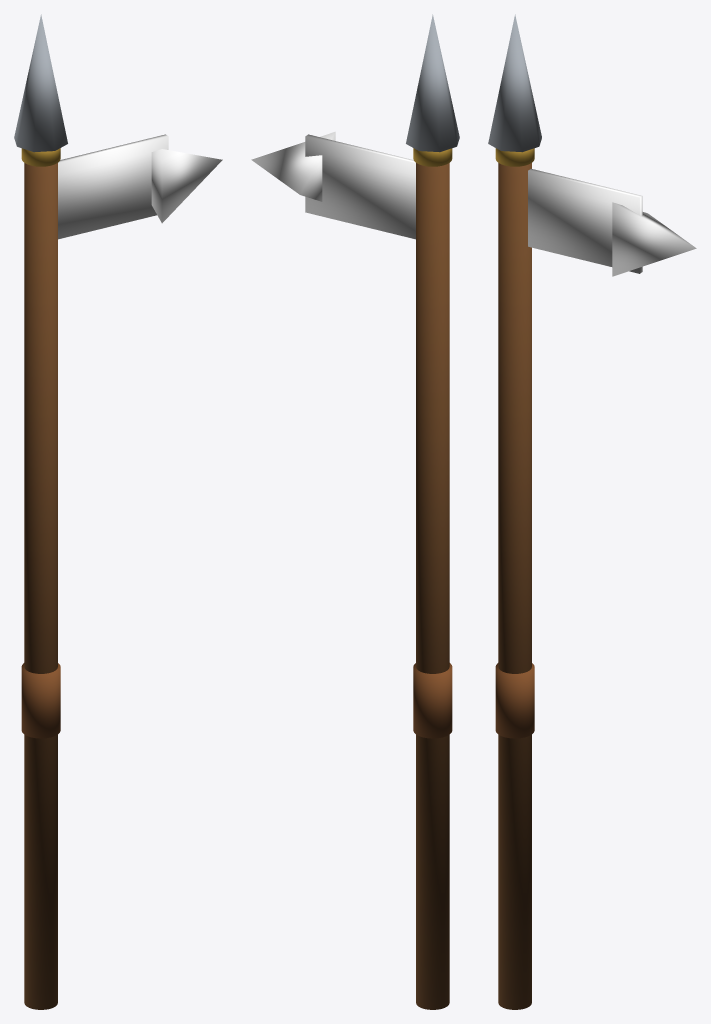
File: lanza.glb
3 renders of one model, left to right at view 1: azimuth 30°, elevation 25°; view 2: azimuth 150°, elevation 25°; view 3: azimuth 330°, elevation 25°, orthographic.
Parts seen in each view (by area): view 1: lanza_fijo; view 2: lanza_fijo; view 3: lanza_fijo.
Part boxes in pixels (x1,y1,x2,y2): lanza_fijo: [14, 14, 222, 1009]; lanza_fijo: [251, 14, 459, 1009]; lanza_fijo: [488, 14, 696, 1009].
Bounding box in the file's own units: 0.85 × 3.9 × 0.27.
2 materials, 2 textured.
